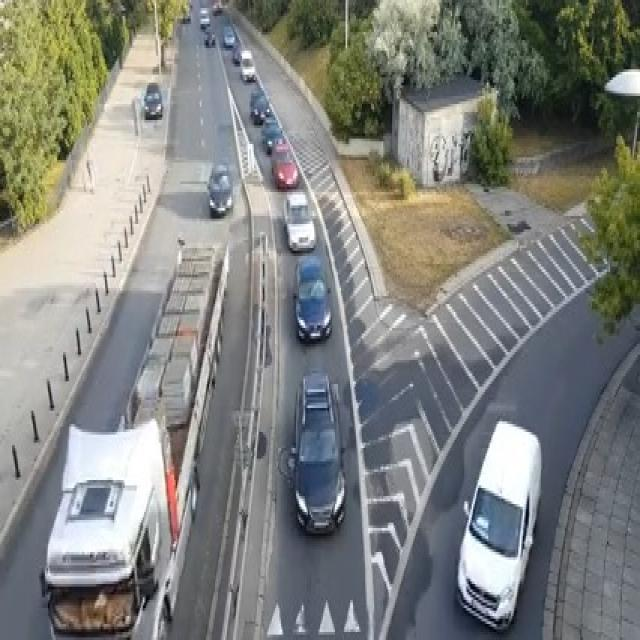bus: (39, 413, 176, 638)
car: (456, 419, 542, 629), (287, 371, 345, 536), (291, 254, 332, 342), (282, 189, 316, 251), (270, 139, 299, 189), (207, 163, 233, 216), (262, 117, 282, 155), (143, 80, 162, 117), (249, 88, 269, 123), (239, 48, 255, 83), (222, 24, 235, 48), (198, 5, 210, 27), (232, 40, 244, 61), (204, 30, 215, 46), (211, 0, 222, 13), (182, 8, 191, 21)
